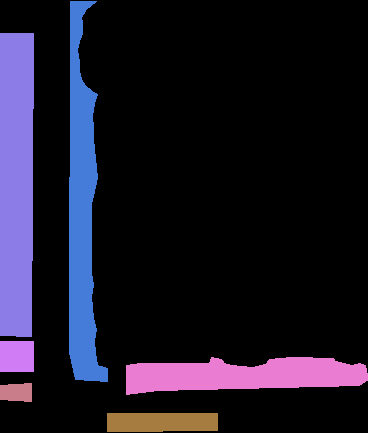parkingspot: (69, 1, 107, 381), (0, 33, 33, 336), (126, 357, 368, 394), (107, 413, 217, 431), (0, 341, 33, 371), (0, 383, 31, 401)
